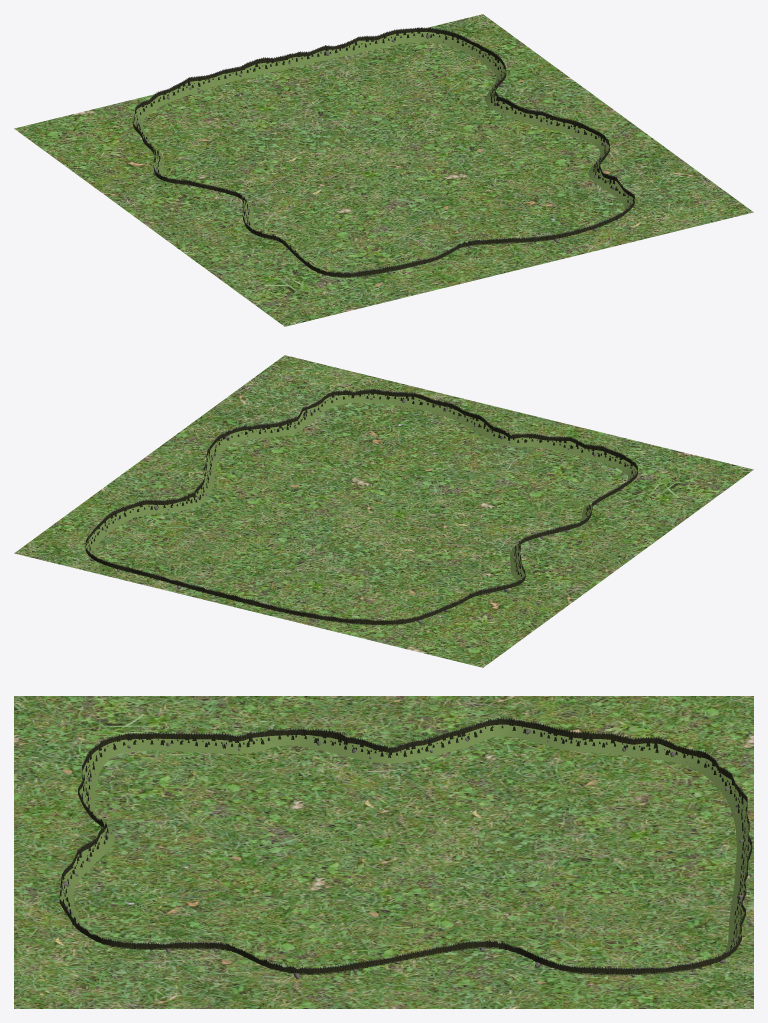
3 renders of one model, top to bottom at view 1: azimuth 30°, elevation 25°; view 2: azimuth 150°, elevation 25°; view 3: azimuth 270°, elevation 25°, orthographic. The views are drawn at different scales.
Parts seen in each view (by area): view 1: Plane, Wall_08, Wall_07, Wall_00, Wall_09, Wall_01, Wall_02, Wall_06, Wall_03, Wall_05, Wall_04; view 2: Plane, Wall_03, Wall_02, Wall_01, Wall_09, Wall_00, Wall_07, Wall_06, Wall_05, Wall_08, Wall_04; view 3: Plane, Wall_04, Wall_06, Wall_05, Wall_03, Wall_02, Wall_00, Wall_09, Wall_07, Wall_01, Wall_08, Trees_04 (+2 smaller).
Boxes of the visible parts, x1,y1,x2,y2 form: Plane: (14,14,753,326); Wall_08: (295,27,456,65); Wall_07: (158,53,299,104); Wall_00: (490,96,609,155); Wall_09: (450,33,506,107); Wall_01: (588,147,634,216); Wall_02: (471,213,621,245); Wall_06: (133,92,165,169); Wall_03: (323,240,471,277); Wall_05: (153,164,253,217); Wall_04: (242,209,323,274); Plane: (14,355,753,667); Wall_03: (497,430,637,478); Wall_02: (370,388,503,442); Wall_01: (243,389,371,439); Wall_09: (86,492,202,549); Wall_00: (194,426,246,503); Wall_07: (206,589,356,624); Wall_06: (356,586,497,625); Wall_05: (496,530,550,591); Wall_08: (85,541,206,593); Wall_04: (551,470,637,533); Plane: (14,696,753,1008); Wall_04: (120,728,347,754); Wall_06: (536,724,730,788); Wall_05: (341,717,543,763); Wall_03: (78,734,125,842); Wall_02: (59,830,113,928); Wall_00: (268,940,486,974); Wall_09: (486,940,692,975); Wall_07: (718,773,752,881); Wall_01: (77,923,268,967); Wall_08: (688,870,747,970); Trees_04: (123,729,347,748).
Bounding box in the file's own units: 1400 × 34.16 × 1400.
